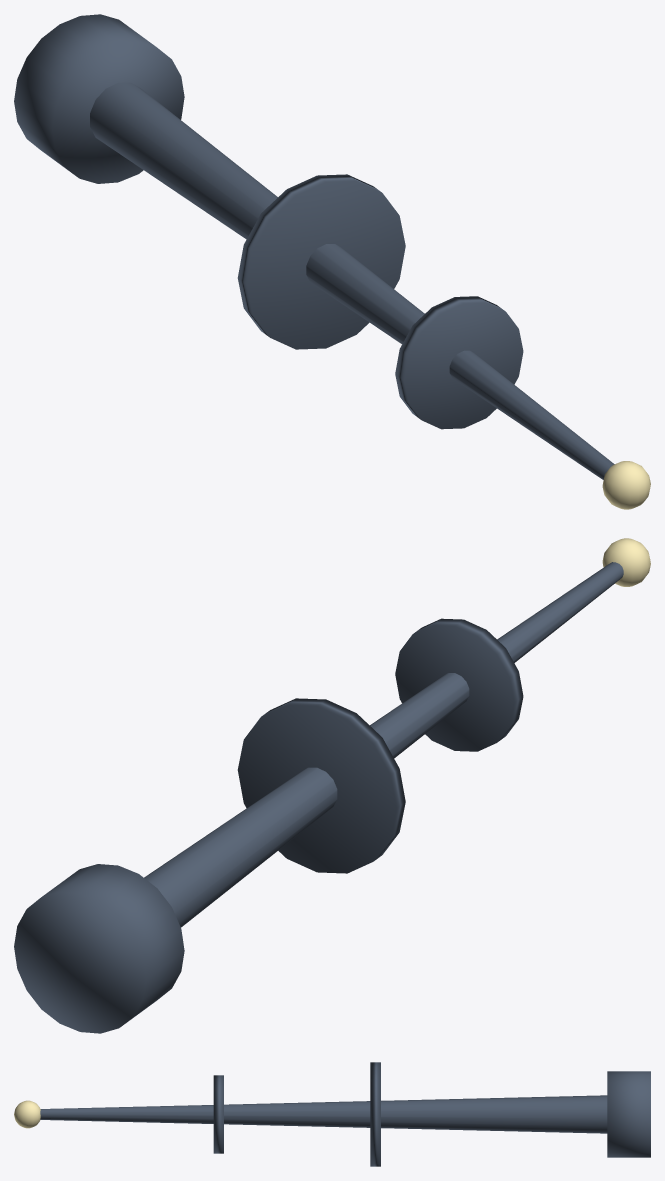
Rendered from SM_Antenne_Passerelle.obj.
3 renders of one model, top to bottom at view 1: azimuth 30°, elevation 25°; view 2: azimuth 150°, elevation 25°; view 3: azimuth 270°, elevation 25°, orthographic. The views are drawn at different scales.
Bounding box in the file's own units: 1200 × 1200 × 7310.
